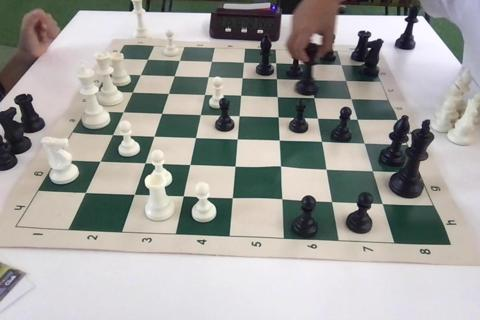xcorner: (170, 70, 183, 82), (236, 90, 249, 102), (164, 87, 177, 99), (196, 108, 208, 121), (274, 135, 287, 147), (191, 131, 203, 144), (109, 128, 121, 141), (336, 60, 348, 72), (304, 59, 316, 71), (271, 58, 283, 70), (239, 57, 251, 69), (208, 56, 220, 68), (176, 55, 188, 67), (144, 54, 156, 66), (341, 75, 353, 87), (306, 74, 318, 86), (272, 73, 284, 85), (238, 72, 250, 84), (204, 71, 216, 83), (137, 69, 149, 81), (346, 93, 358, 105), (309, 92, 321, 104), (273, 91, 285, 103), (200, 89, 212, 101), (129, 86, 141, 98), (352, 114, 364, 126), (313, 113, 325, 125), (274, 111, 286, 123), (235, 110, 247, 122), (158, 107, 170, 119), (119, 106, 131, 118), (359, 138, 371, 150), (317, 136, 329, 148), (233, 133, 245, 145), (150, 130, 162, 142), (367, 165, 379, 177), (321, 164, 333, 176), (276, 162, 288, 174), (230, 160, 242, 172), (185, 158, 197, 170), (140, 157, 152, 169), (96, 155, 108, 167), (377, 198, 389, 210), (327, 196, 339, 208), (277, 194, 289, 206), (227, 192, 239, 204), (178, 190, 190, 202), (129, 188, 141, 200), (81, 186, 93, 198)
